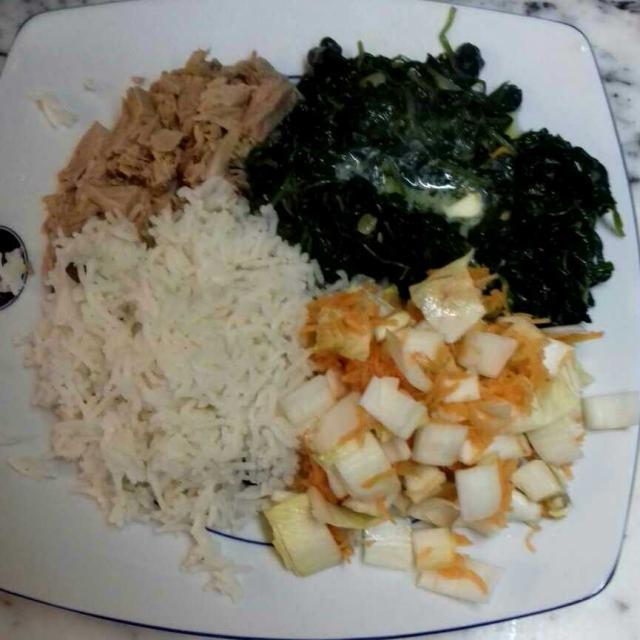butter: (341, 94, 531, 272)
carrot: (306, 291, 547, 544)
rice: (13, 181, 341, 562)
spinach: (221, 32, 626, 349)
tuna: (42, 51, 299, 237)
witloof-chicory: (256, 262, 602, 604)
